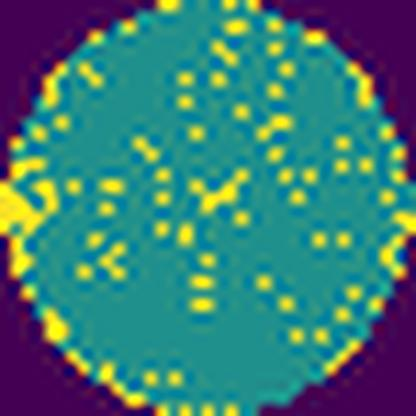Edge-Loc: (0, 150, 65, 279)
